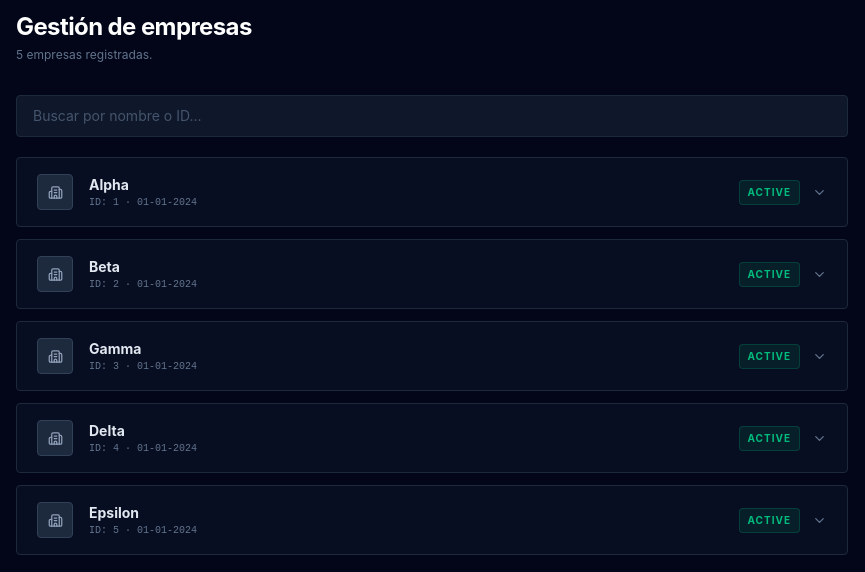
Test: CompaniesAdmin › buscador SE muestra y filtra cuando hay >4 empresas
The width and height of the screenshot is (865, 572).
Expected: the text "Alpha" is shown, [89,176,129,192]
Type "alph" into the field with placeholder "Buscar por nombre o ID...".
click(432, 116); type("alph")  # box [16,95,848,137]
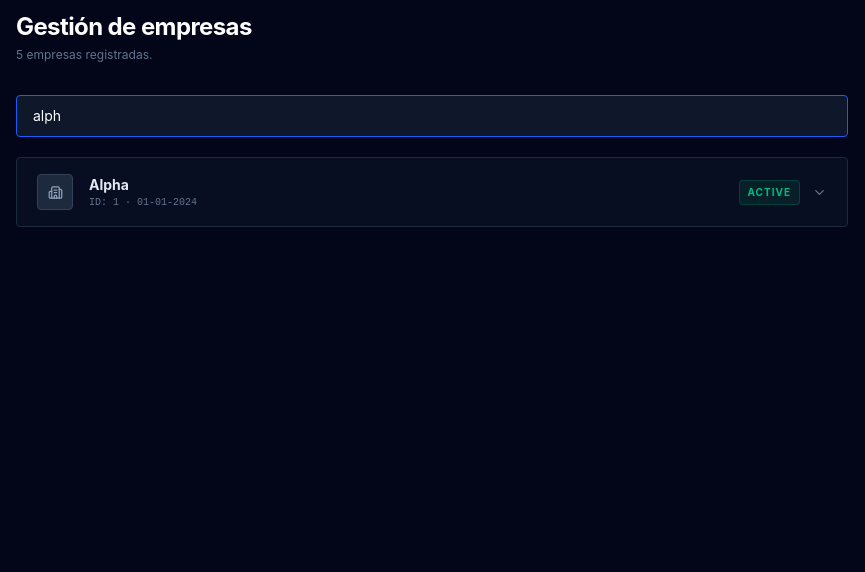
Expected: the text "Alpha" is shown, [89,176,129,192]
Now the button "Beta" is gone
